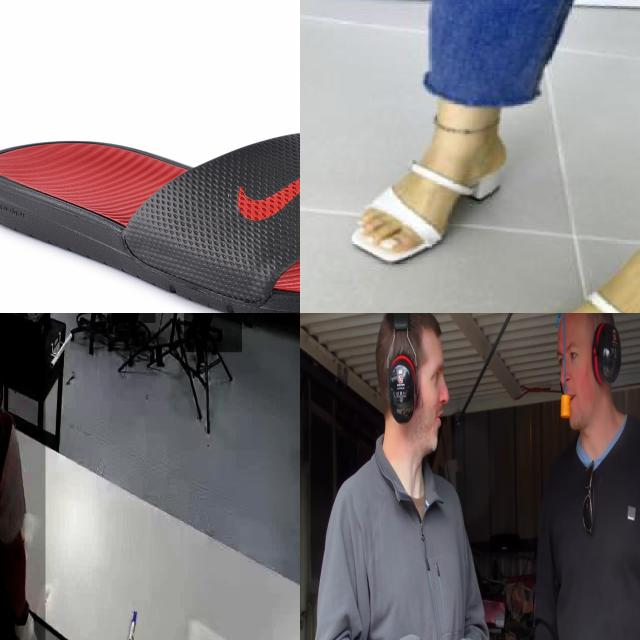No_Ear-Protection: (386, 343, 419, 423)
No_Glasses: (591, 322, 621, 386), (425, 370, 449, 395), (555, 354, 588, 370), (393, 313, 410, 336)
Sandals: (0, 130, 300, 313), (342, 70, 515, 270), (478, 221, 640, 313)
face_nomask: (561, 363, 596, 429), (415, 384, 449, 451)
head_nohelmet: (376, 313, 441, 413)
person: (0, 313, 46, 640), (183, 313, 242, 353)
